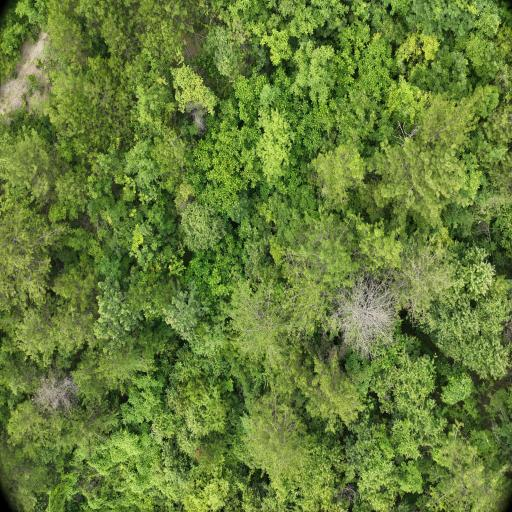dead-tree: (325, 265, 422, 367), (34, 368, 82, 419), (189, 104, 209, 134)
